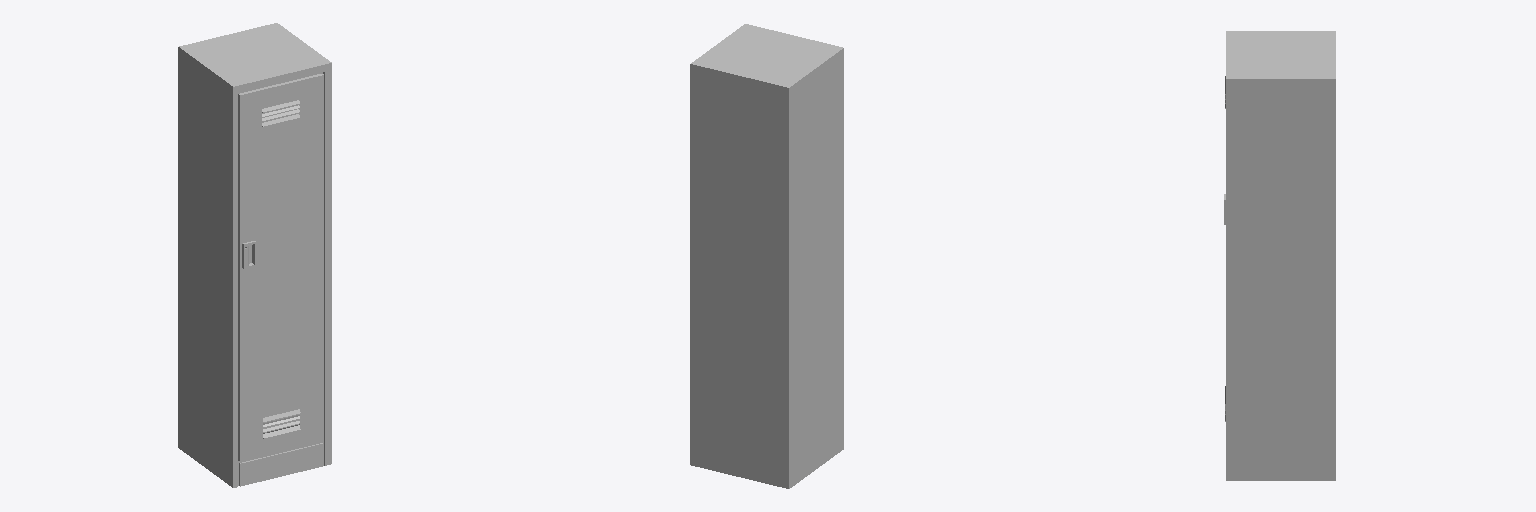
The model's file is Locker.obj.
3 renders of one model, left to right at view 1: azimuth 30°, elevation 25°; view 2: azimuth 150°, elevation 25°; view 3: azimuth 270°, elevation 25°, orthographic.
Visible parts, largest first — view 1: Layer0_001; view 2: Layer0_001; view 3: Layer0_001.
Part boxes in pixels (bbox=[...]): Layer0_001: bbox=[178, 23, 331, 487]; Layer0_001: bbox=[690, 24, 843, 488]; Layer0_001: bbox=[1224, 31, 1335, 480].
Size of the model in its own units: 20.62 by 80.12 by 20.38.